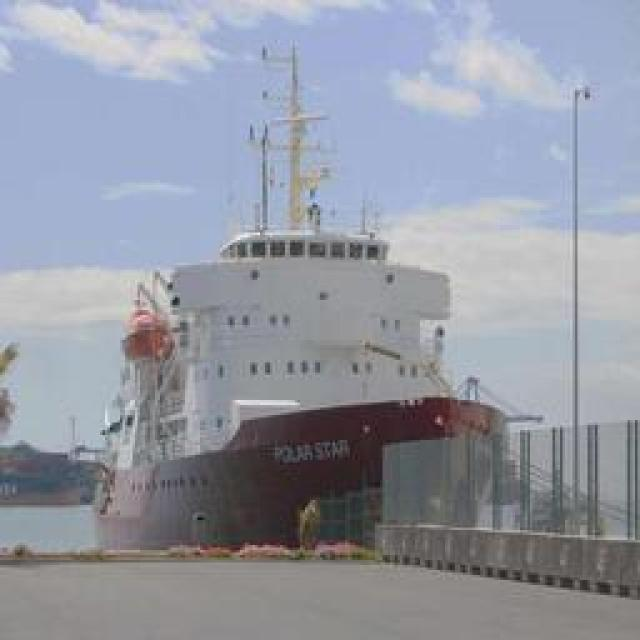CIV_Ship: (86, 31, 506, 561)
